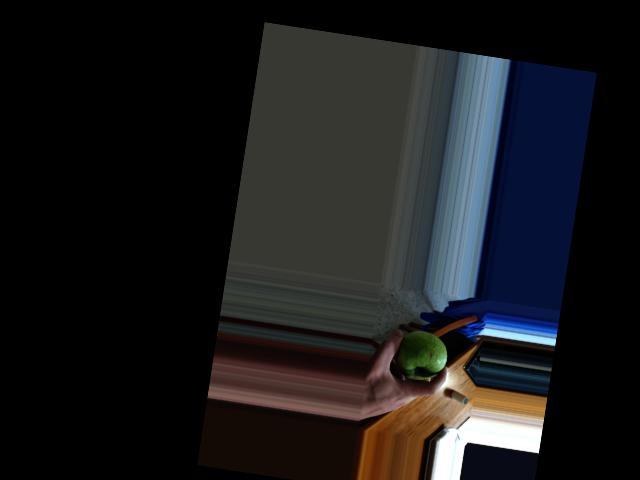apple: (390, 326, 452, 385)
